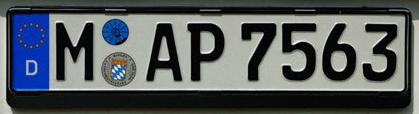3: (361, 21, 400, 84)
5: (281, 20, 318, 82)
6: (320, 20, 359, 83)
7: (239, 20, 278, 83)
A: (144, 20, 183, 84)
M: (53, 18, 97, 83)
P: (185, 20, 226, 85)
